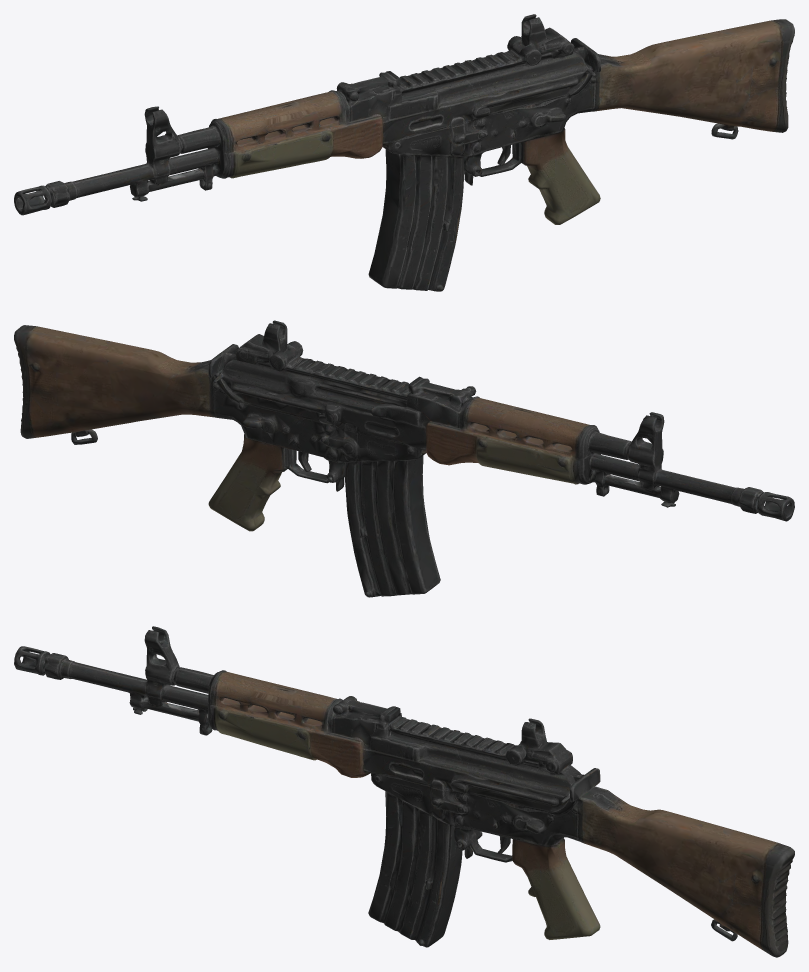
File: gun_br.glb
3 renders of one model, top to bottom at view 1: azimuth 30°, elevation 25°; view 2: azimuth 150°, elevation 25°; view 3: azimuth 330°, elevation 25°, orthographic.
Size of the model in its own units: 1.9 by 0.5768 by 0.1403.
1 material, 1 textured.
